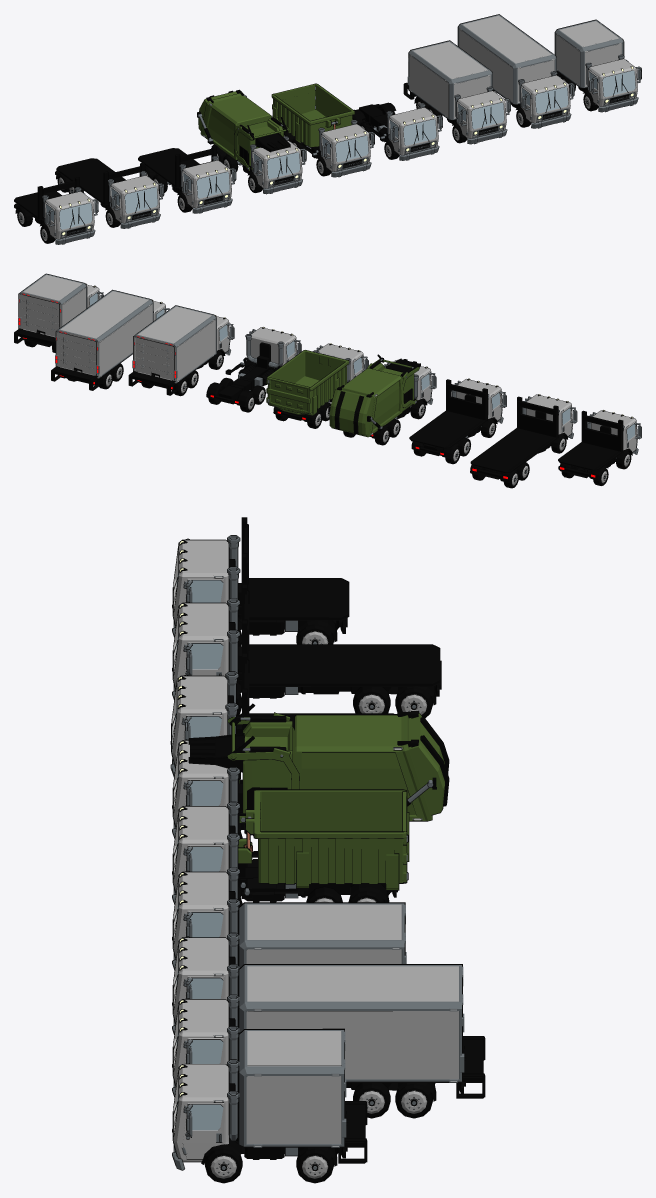
Rendered from marv_truck_set.glb.
3 views of the same model, one above another, from view 1: azimuth 30°, elevation 25°; view 2: azimuth 150°, elevation 25°; view 3: azimuth 270°, elevation 25° (orthographic). The views are drawn at different scales.
Parts seen in each view (by area): view 1: Cube.1159, Cube, Cube.1939, Cube.1198, Cube.091, Cube.2576, Cube.2007, Cube.677, Cube.2302, Cube.587, Cube.093, Cube.023 (+9 smaller); view 2: Cube.1159, Cube, Cube.2576, Cube.2816, Cube.1198, Cube.2301, Cube.091, Cube.1939, Cube.1376, Cube.093, Cube.2302, Cube.241 (+9 smaller); view 3: Cube.1159, Cube.1198, Cube.1939, Cube, Cube.091, Cube.2576, Cube.2301, Cube.1665, Cube.2302, Cube.023, Cube.093, Cube.677 (+10 smaller).
Boxes of the visible parts, x1=… form: Cube.1159: x1=457, y1=14, x2=556, y2=104; Cube: x1=408, y1=40, x2=492, y2=120; Cube.1939: x1=554, y1=19, x2=624, y2=88; Cube.1198: x1=271, y1=83, x2=354, y2=147; Cube.091: x1=201, y1=93, x2=271, y2=159; Cube.2576: x1=56, y1=158, x2=145, y2=205; Cube.2007: x1=182, y1=160, x2=231, y2=207; Cube.677: x1=521, y1=75, x2=570, y2=122; Cube.2302: x1=110, y1=175, x2=159, y2=223; Cube.587: x1=457, y1=91, x2=506, y2=138; Cube.093: x1=389, y1=107, x2=438, y2=155; Cube.023: x1=321, y1=124, x2=370, y2=171; Cube.1159: x1=55, y1=289, x2=153, y2=378; Cube: x1=133, y1=305, x2=216, y2=383; Cube.2576: x1=470, y1=396, x2=558, y2=473; Cube.2816: x1=409, y1=379, x2=487, y2=448; Cube.1198: x1=267, y1=350, x2=349, y2=413; Cube.2301: x1=558, y1=410, x2=623, y2=470; Cube.091: x1=332, y1=368, x2=402, y2=436; Cube.1939: x1=18, y1=273, x2=87, y2=337; Cube.1376: x1=329, y1=389, x2=373, y2=435; Cube.093: x1=251, y1=327, x2=296, y2=368; Cube.2302: x1=526, y1=394, x2=572, y2=435; Cube.241: x1=268, y1=377, x2=309, y2=413; Cube.1159: x1=238, y1=964, x2=462, y2=1082; Cube.1198: x1=253, y1=789, x2=407, y2=884; Cube.1939: x1=238, y1=1028, x2=344, y2=1147; Cube: x1=238, y1=902, x2=405, y2=968; Cube.091: x1=295, y1=715, x2=432, y2=820; Cube.2576: x1=238, y1=583, x2=440, y2=686; Cube.2301: x1=238, y1=517, x2=349, y2=620; Cube.1665: x1=173, y1=1064, x2=228, y2=1161; Cube.2302: x1=173, y1=603, x2=228, y2=686; Cube.023: x1=173, y1=806, x2=228, y2=891; Cube.093: x1=173, y1=872, x2=228, y2=957; Cube.677: x1=173, y1=999, x2=228, y2=1084.
Bounding box in the file's own units: 5.73 × 0.5863 × 1.33.
